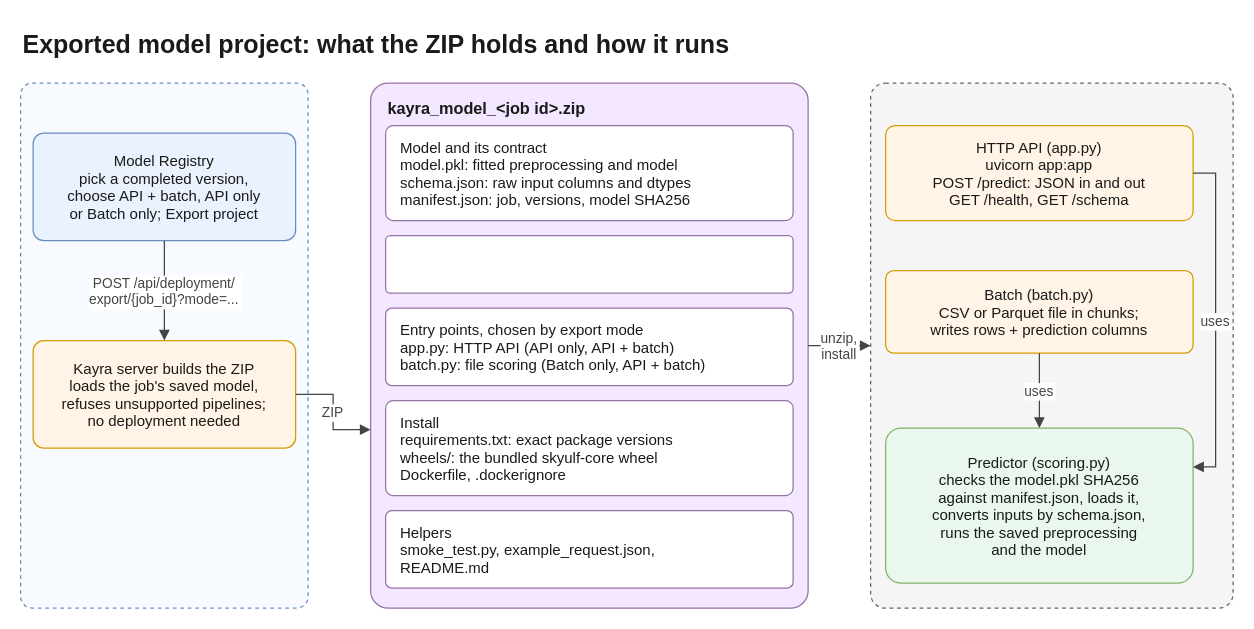
Some shapes in this 1254 by 629 pixel diagram are drawn without their labels. Here are the shapes that lost their labels. From the top down, the box of each, then its label:
(384, 234, 793, 293): Shared scorer scoring.py: used by every entry point
(19, 82, 308, 608): In Kayra
(869, 82, 1233, 608): Anywhere, without the Kayra server
